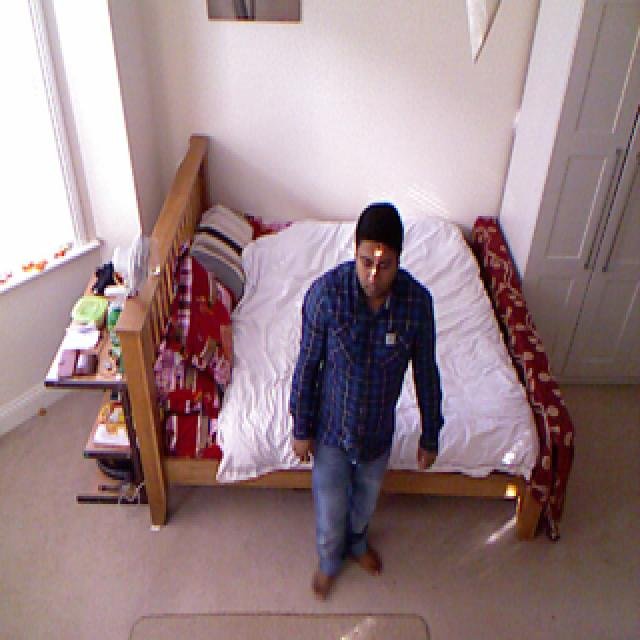standing: (287, 205, 457, 604)
